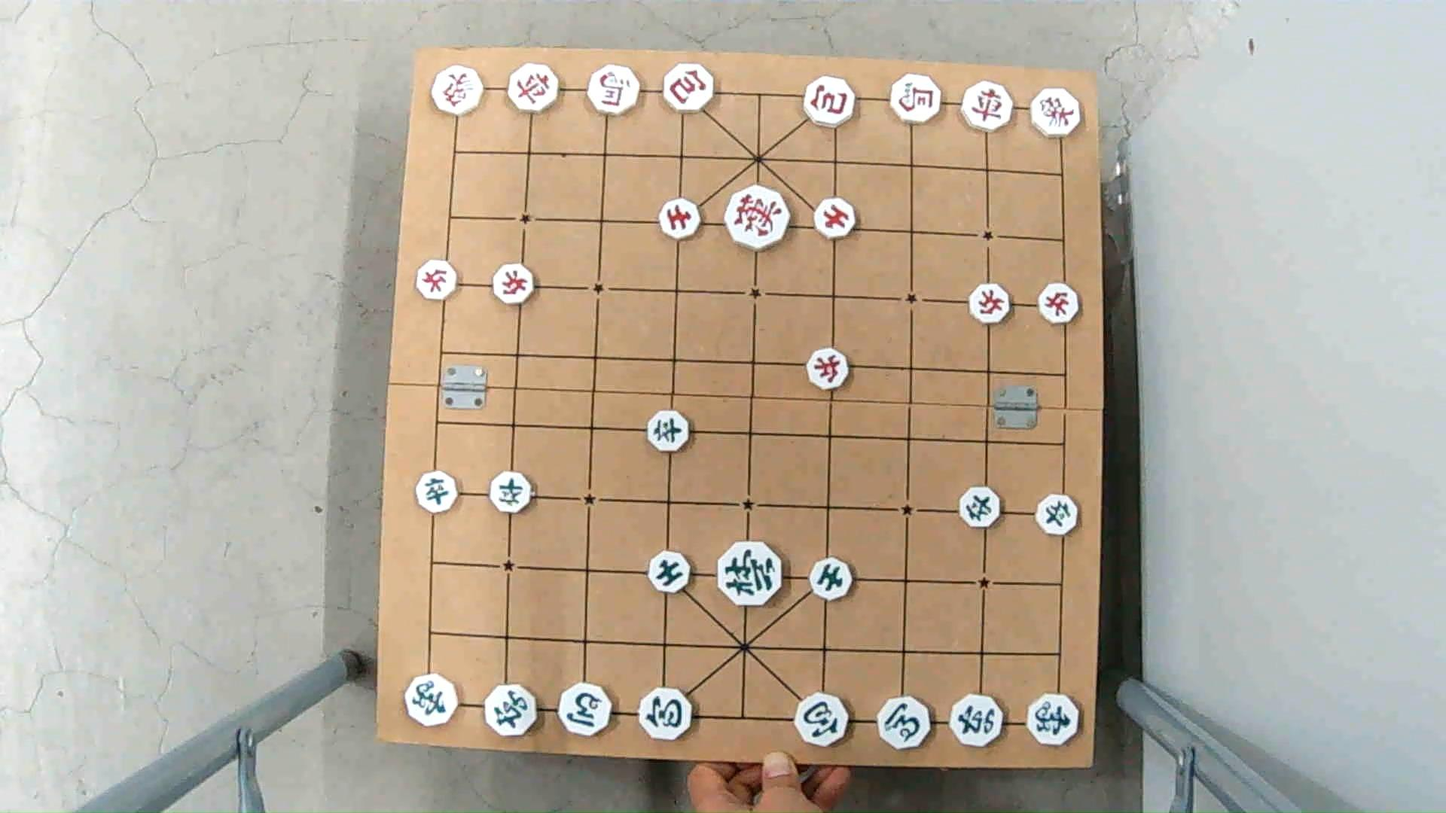cha_green: (949, 693, 1004, 746), (482, 687, 538, 737)
cha_red: (959, 85, 1017, 131), (504, 65, 562, 111)
jol_green: (644, 413, 692, 452), (488, 474, 536, 512), (413, 473, 459, 511), (1033, 497, 1081, 533), (956, 488, 1002, 525)
jol_red: (966, 282, 1014, 324), (806, 351, 853, 388), (1037, 284, 1080, 324), (490, 266, 536, 302), (413, 262, 460, 297)
ma_green: (880, 699, 938, 748), (557, 687, 614, 736)
ma_red: (585, 69, 644, 113), (892, 78, 941, 123)
po_green: (795, 695, 853, 744), (637, 687, 695, 734)
po_red: (660, 67, 717, 112), (799, 81, 857, 125)
sa_green: (811, 560, 856, 601), (646, 551, 693, 589)
sa_red: (655, 199, 704, 236), (810, 202, 859, 239)
sang_green: (1023, 695, 1081, 744), (404, 672, 461, 721)
sang_red: (431, 69, 488, 114), (1029, 90, 1084, 136)
wang_green: (716, 544, 783, 600)
wang_red: (723, 187, 790, 244)
